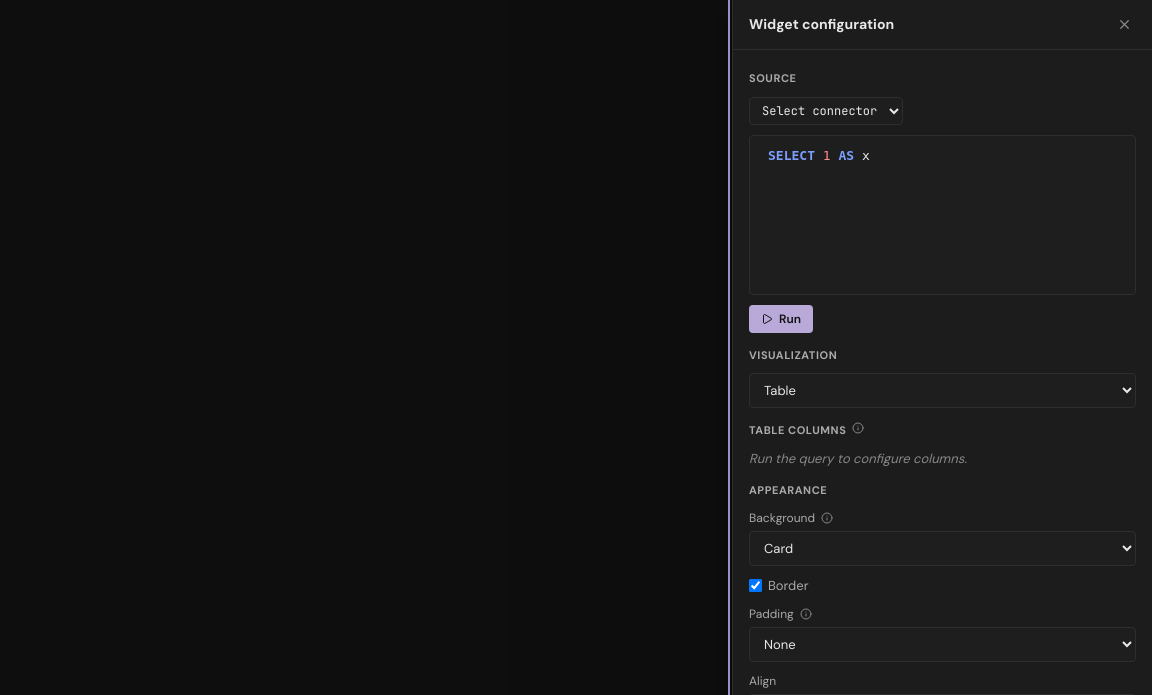
Test: WidgetConfigDrawer › runs the widget and renders a preview
Click the button "Run".
click(781, 318)  # box 749,304 -> 813,332
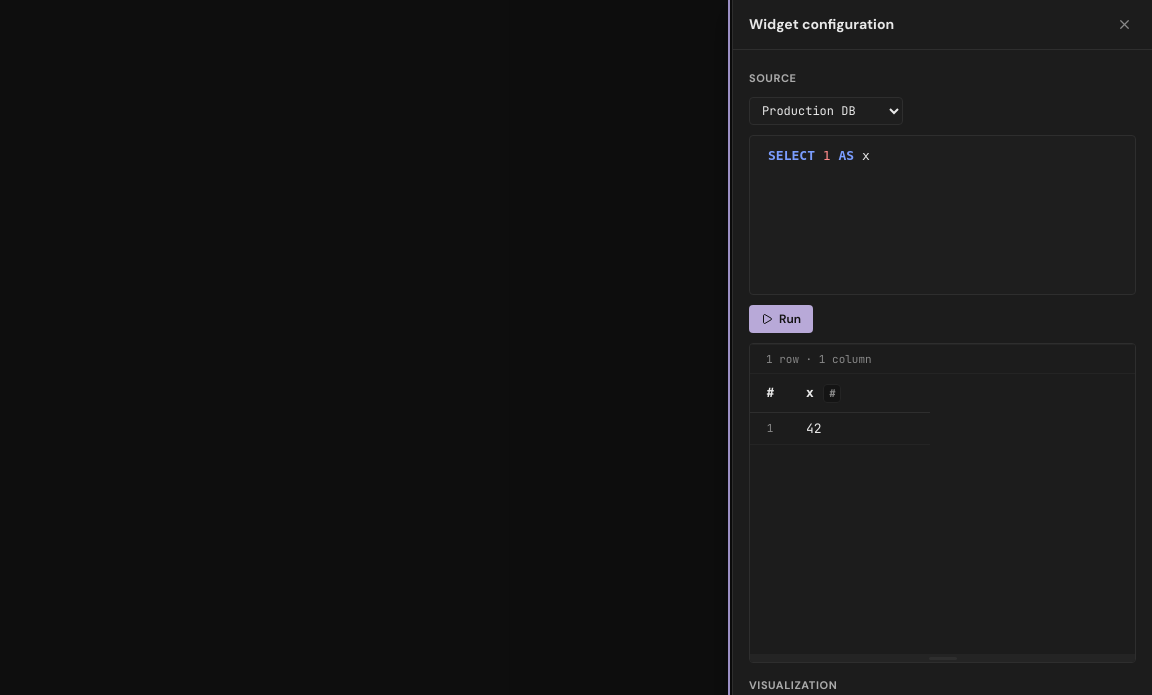
Check: the text "42" is shown, box 806,420 -> 822,436
